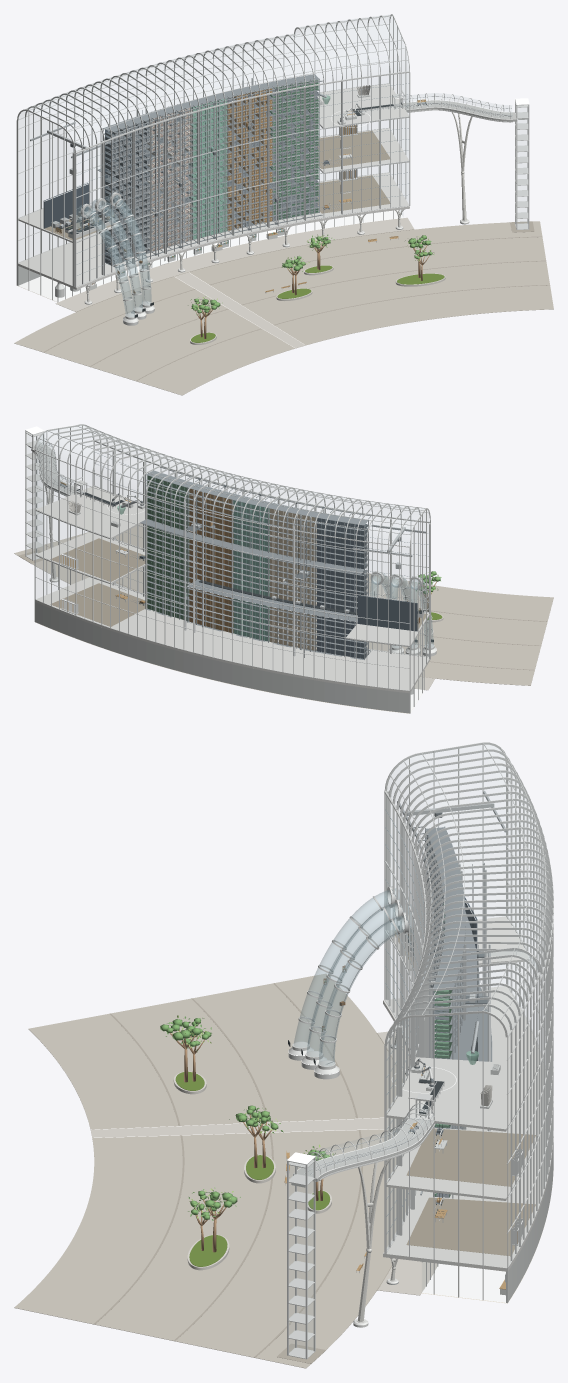
File: q10b-material-bank.glb
The picture shows the model from 3 angles, top to bottom: view 1: azimuth 30°, elevation 25°; view 2: azimuth 150°, elevation 25°; view 3: azimuth 270°, elevation 25°; orthographic projection. The views are drawn at different scales.
Parts seen in each view (by area): view 1: PLAZA.001, STRUCTURE_SHELL, FACADE, INTAKE.001, GROUND_FLOOR, FORMING_ROOM, BRIDGE.001, LIBRARY_RAILS_ARMS, RACK_BAY_13, RACK_BAY_10, RACK_BAY_19, BACK_BAY_00 (+8 smaller); view 2: STRUCTURE_SHELL, PLAZA.001, FORMING_ROOM, LIBRARY_BACK_AISLE, INTAKE.001, BRIDGE.001, FACADE, RACK_BAY_21, RACK_BAY_08, RACK_BAY_09, BACK_BAY_04, RACK_BAY_14 (+57 smaller); view 3: PLAZA.001, STRUCTURE_SHELL, FORMING_ROOM, BRIDGE.001, INTAKE.001, FACADE, LIBRARY_BACK_AISLE, GROUND_FLOOR, BACK_BAY_38, BACK_BAY_34, BACK_BAY_30, TREE_07 (+1 smaller).
Part boxes in pixels (x1=…): PLAZA.001: x1=14, y1=221, x2=553, y2=395; STRUCTURE_SHELL: x1=16, y1=16, x2=410, y2=302; FACADE: x1=75, y1=74, x2=409, y2=286; INTAKE.001: x1=30, y1=122, x2=154, y2=325; GROUND_FLOOR: x1=55, y1=217, x2=414, y2=311; FORMING_ROOM: x1=317, y1=85, x2=403, y2=213; BRIDGE.001: x1=396, y1=93, x2=534, y2=232; LIBRARY_RAILS_ARMS: x1=151, y1=88, x2=279, y2=255; RACK_BAY_13: x1=213, y1=93, x2=227, y2=234; RACK_BAY_10: x1=186, y1=100, x2=201, y2=241; RACK_BAY_19: x1=268, y1=81, x2=282, y2=222; BACK_BAY_00: x1=17, y1=117, x2=25, y2=285; STRUCTURE_SHELL: x1=34, y1=424, x2=430, y2=713; PLAZA.001: x1=14, y1=523, x2=553, y2=685; FORMING_ROOM: x1=50, y1=480, x2=147, y2=626; LIBRARY_BACK_AISLE: x1=184, y1=490, x2=357, y2=657; INTAKE.001: x1=352, y1=524, x2=436, y2=694; BRIDGE.001: x1=18, y1=426, x2=82, y2=582; FACADE: x1=94, y1=444, x2=428, y2=657; RACK_BAY_21: x1=162, y1=474, x2=182, y2=617; RACK_BAY_08: x1=278, y1=503, x2=295, y2=646; RACK_BAY_09: x1=269, y1=501, x2=286, y2=644; BACK_BAY_04: x1=356, y1=540, x2=367, y2=708; RACK_BAY_14: x1=223, y1=490, x2=242, y2=633; PLAZA.001: x1=14, y1=973, x2=410, y2=1368; STRUCTURE_SHELL: x1=383, y1=744, x2=553, y2=1303; FORMING_ROOM: x1=391, y1=1021, x2=535, y2=1256; BRIDGE.001: x1=277, y1=1103, x2=435, y2=1363; INTAKE.001: x1=288, y1=790, x2=506, y2=1079; FACADE: x1=384, y1=794, x2=427, y2=1254; LIBRARY_BACK_AISLE: x1=458, y1=862, x2=492, y2=1131; GROUND_FLOOR: x1=377, y1=1031, x2=505, y2=1295; BACK_BAY_38: x1=506, y1=1030, x2=512, y2=1302; BACK_BAY_34: x1=524, y1=1001, x2=528, y2=1273; BACK_BAY_30: x1=537, y1=972, x2=540, y2=1244; TREE_07: x1=160, y1=1015, x2=207, y2=1082.
Size of the model in its own units: 146 by 50.1 by 84.63.
